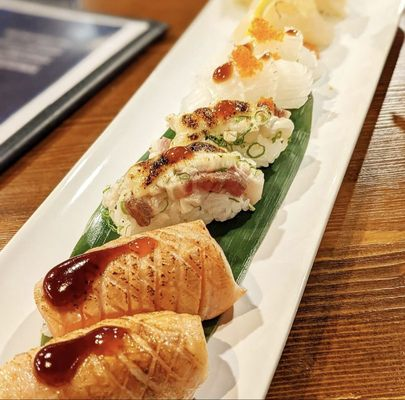soup: (33, 219, 246, 340)
